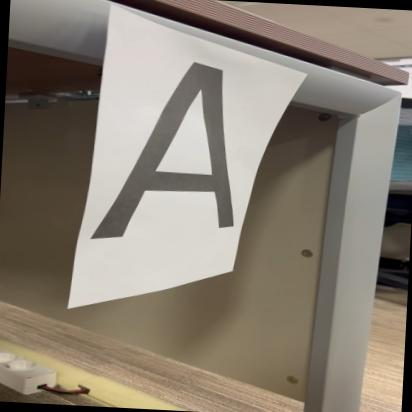seat: (76, 42, 254, 255)
